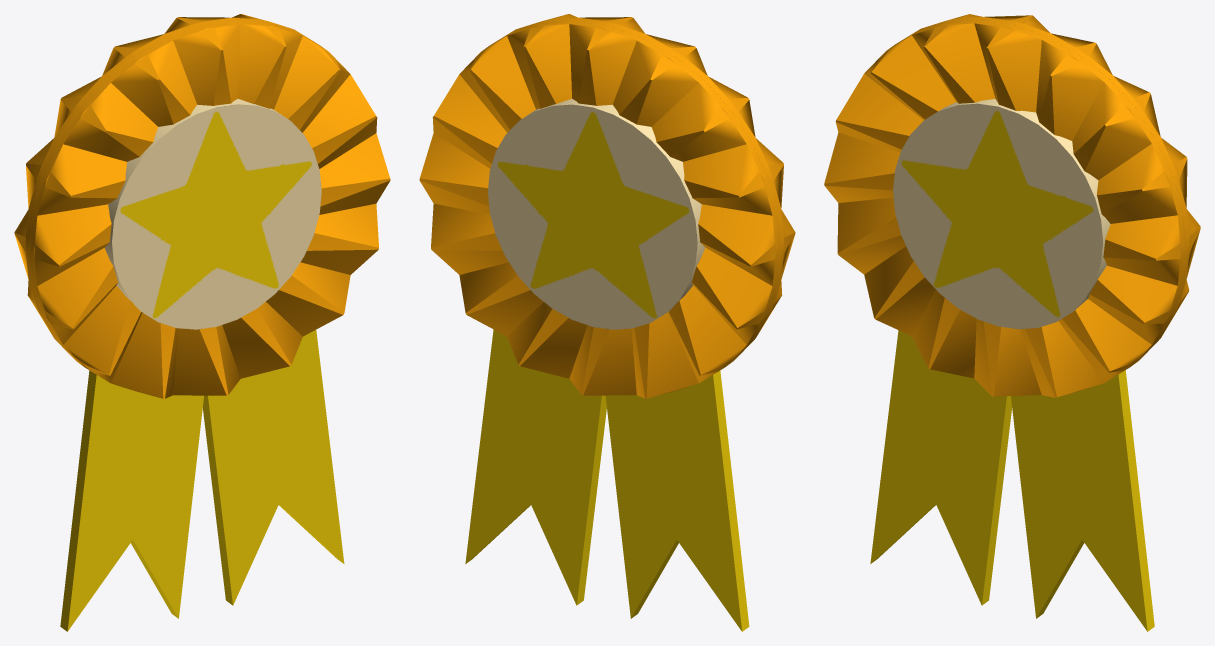
File: goal.obj
The picture shows the model from 3 angles, left to right: view 1: azimuth 30°, elevation 25°; view 2: azimuth 150°, elevation 25°; view 3: azimuth 330°, elevation 25°; orthographic projection.
Visible parts, largest first — view 1: 円柱.001; view 2: 円柱.001; view 3: 円柱.001.
Part boxes in pixels (x1=…): 円柱.001: x1=14, y1=14, x2=390, y2=631; 円柱.001: x1=419, y1=14, x2=795, y2=631; 円柱.001: x1=824, y1=14, x2=1200, y2=631.
Size of the model in its own units: 2 by 3.23 by 0.4487.
3 materials, 3 textured.
